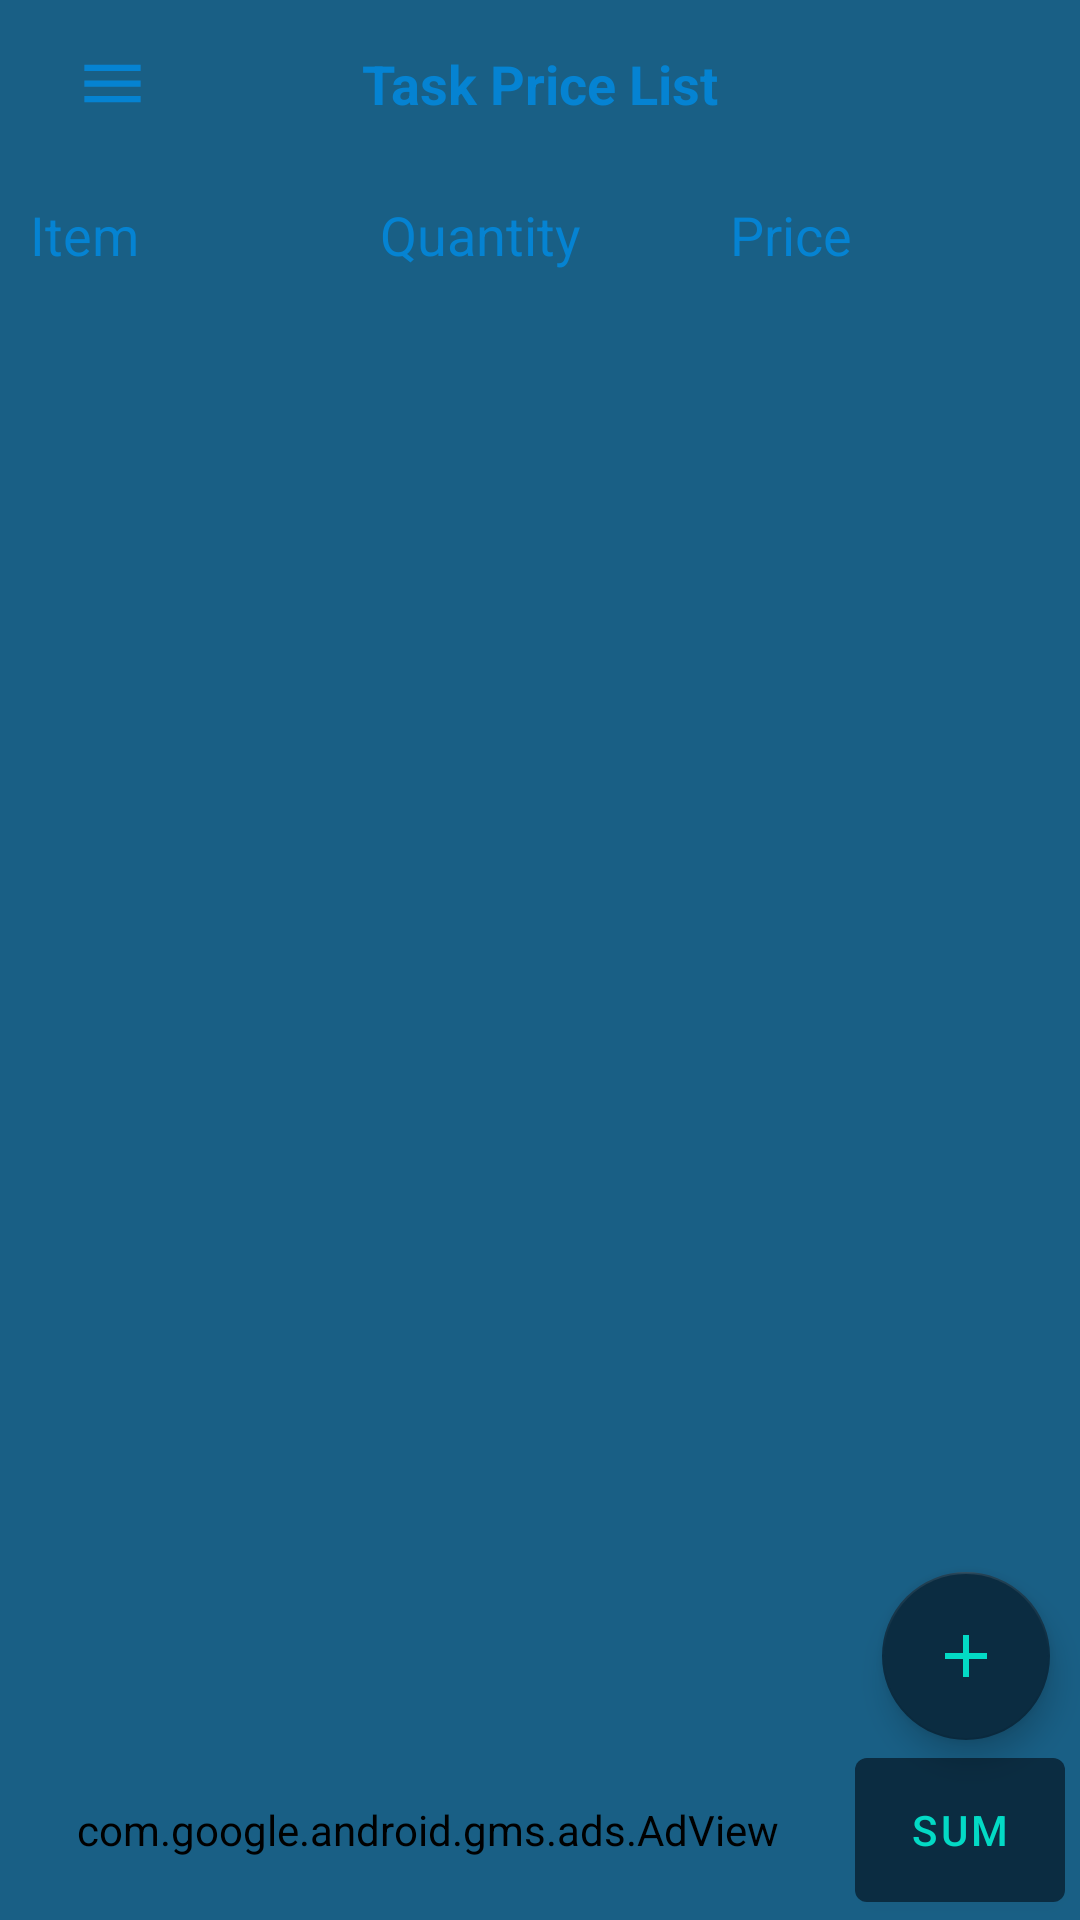

Icon bounding boxes for this 1080 × 1920 phone screenshot, format (x1, y1, x2, y2):
add: (882, 1572, 1050, 1740)
menu: (84, 65, 141, 102)
